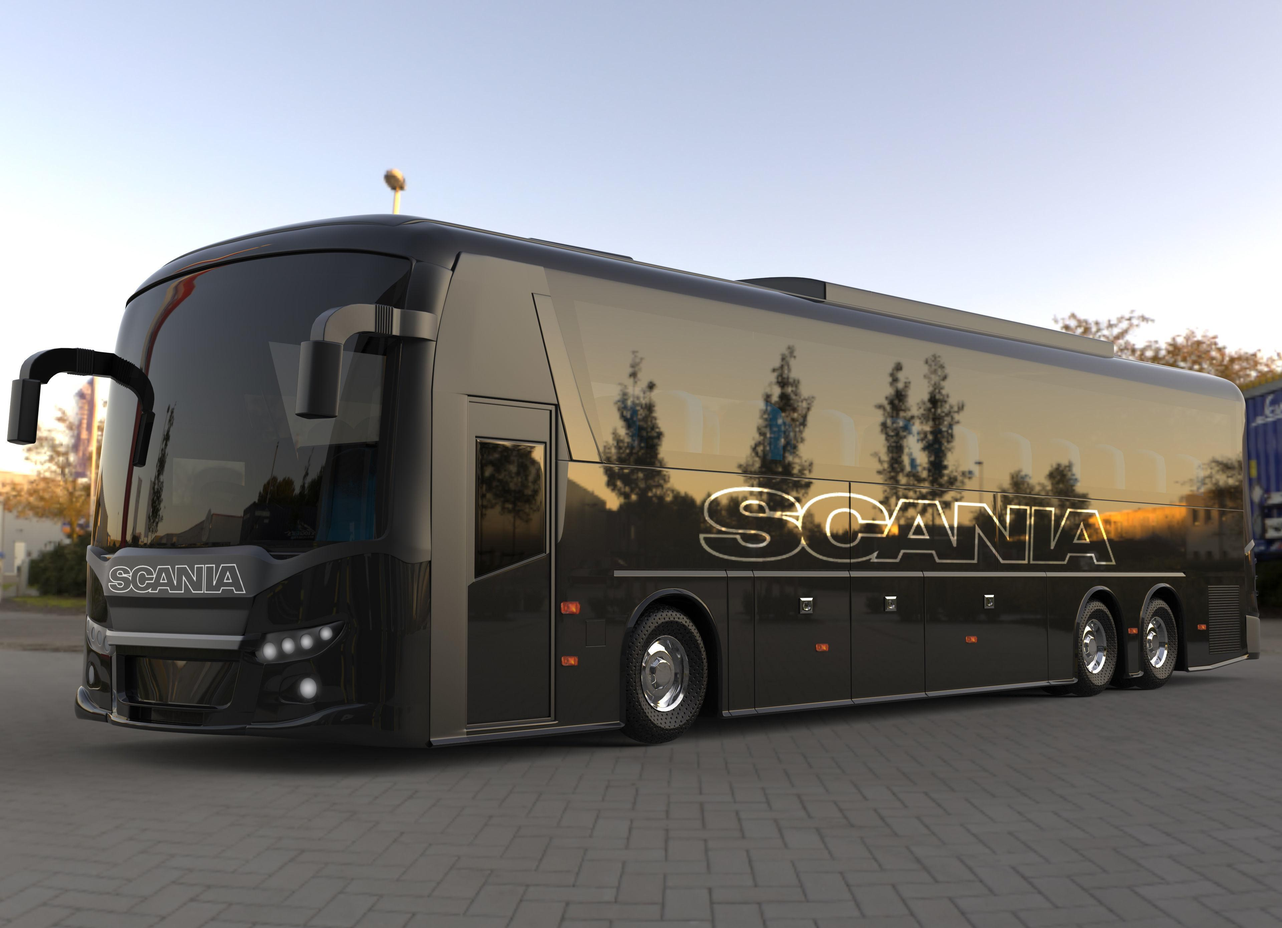Bus: (6, 213, 1261, 752)
